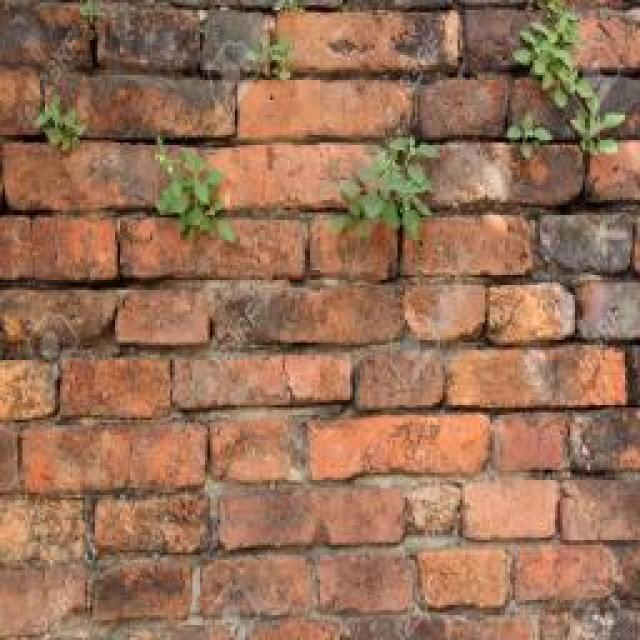crack: (0, 1, 639, 638), (538, 213, 638, 276), (248, 61, 454, 85), (225, 131, 421, 149), (85, 0, 102, 77), (186, 561, 206, 623), (80, 506, 100, 565), (283, 351, 300, 413)
dampness: (5, 216, 400, 280)
vegetation: (505, 0, 627, 157), (331, 129, 441, 243), (151, 133, 236, 243), (240, 0, 299, 80), (35, 91, 87, 153), (384, 134, 442, 179), (505, 110, 553, 155)
